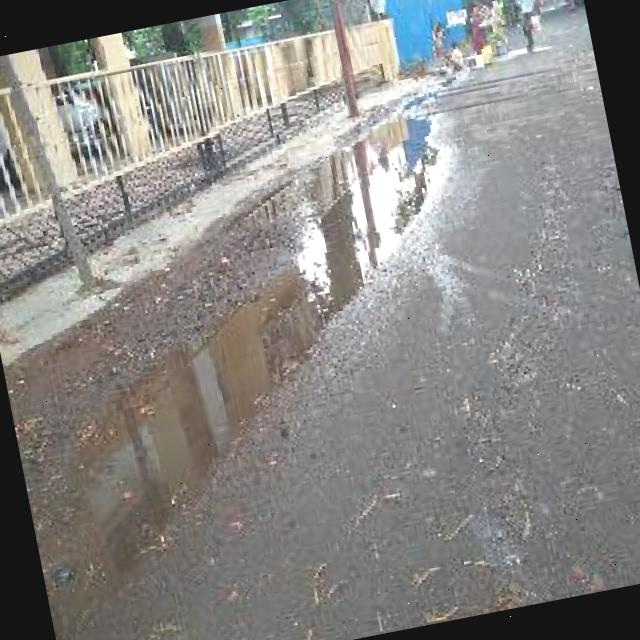stagnation: (224, 212, 368, 418), (353, 118, 476, 294)
